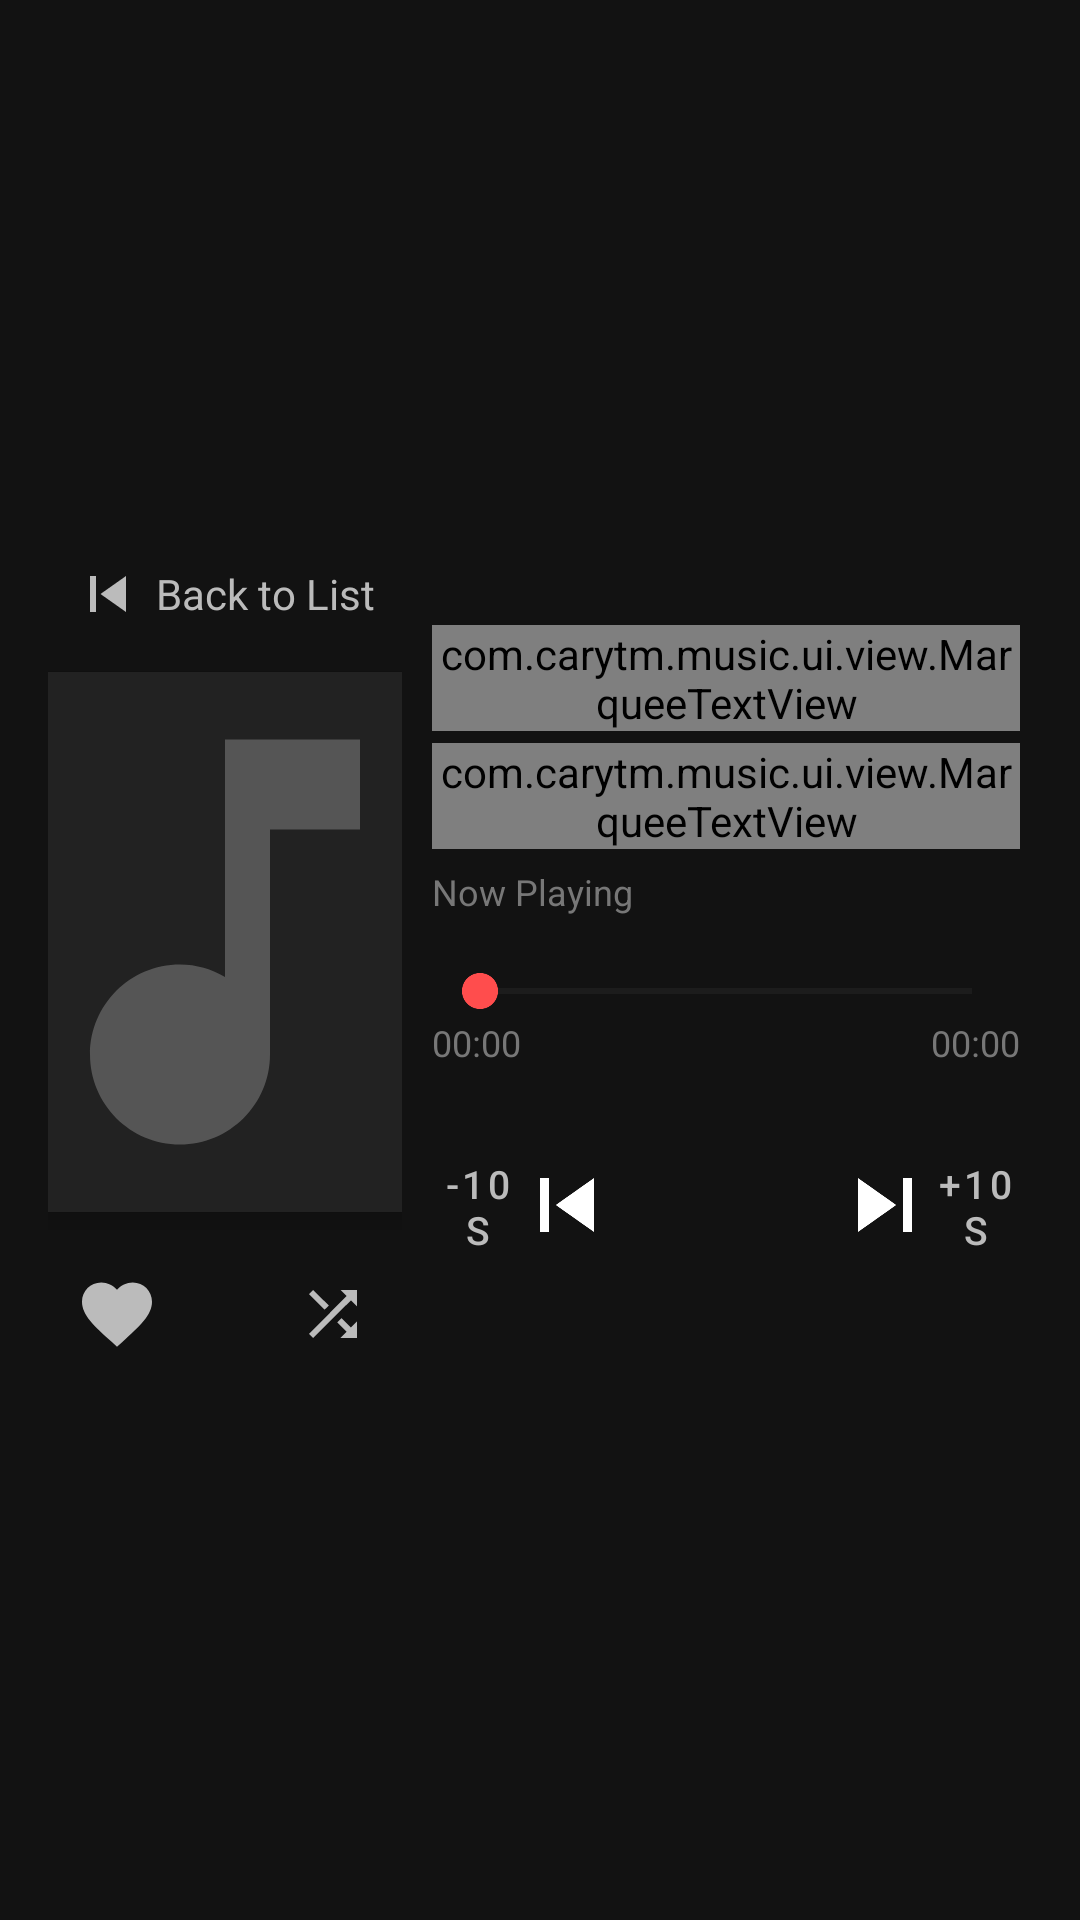

Locate icon controls on the screen. Image size 1080*1920, boxes as (x1, y1, x2, y2).
heart: (82, 1282, 152, 1347)
next: (858, 1178, 912, 1232)
prev: (90, 576, 126, 612), (540, 1178, 594, 1232)
shuffle: (309, 1290, 357, 1338)
